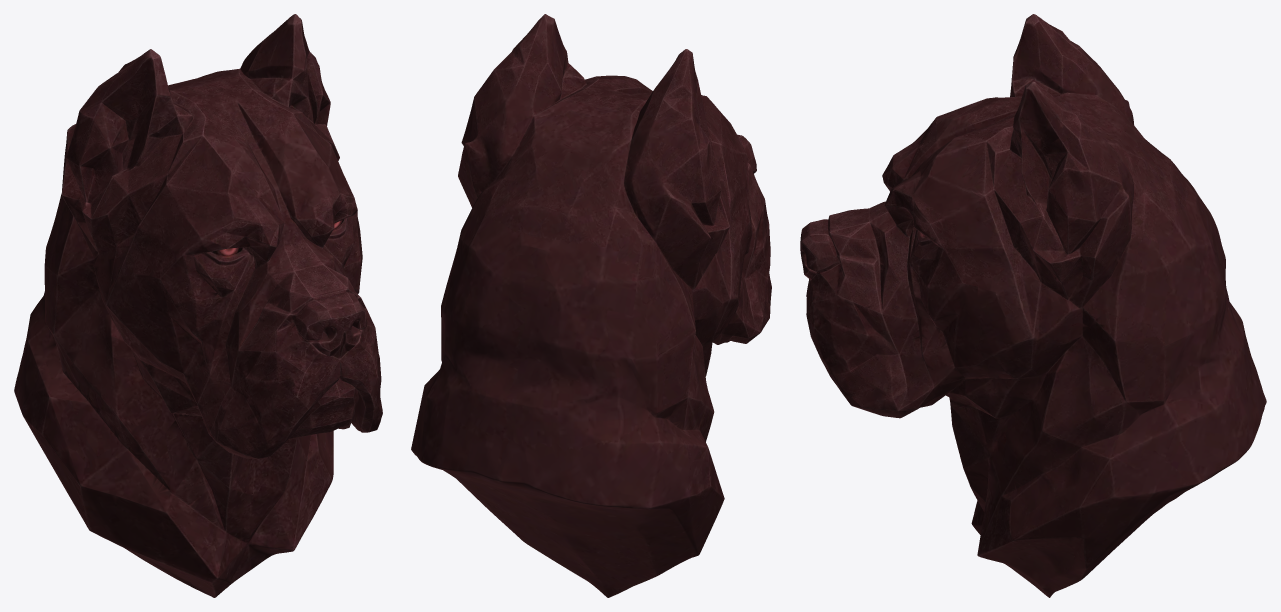
Rendered from dog_head.glb.
3 views of the same model, side by side, from view 1: azimuth 30°, elevation 25°; view 2: azimuth 150°, elevation 25°; view 3: azimuth 270°, elevation 25° (orthographic). The views are drawn at different scales.
Size of the model in its own units: 0.969 by 1.9 by 1.46.
1 material, 1 textured.
